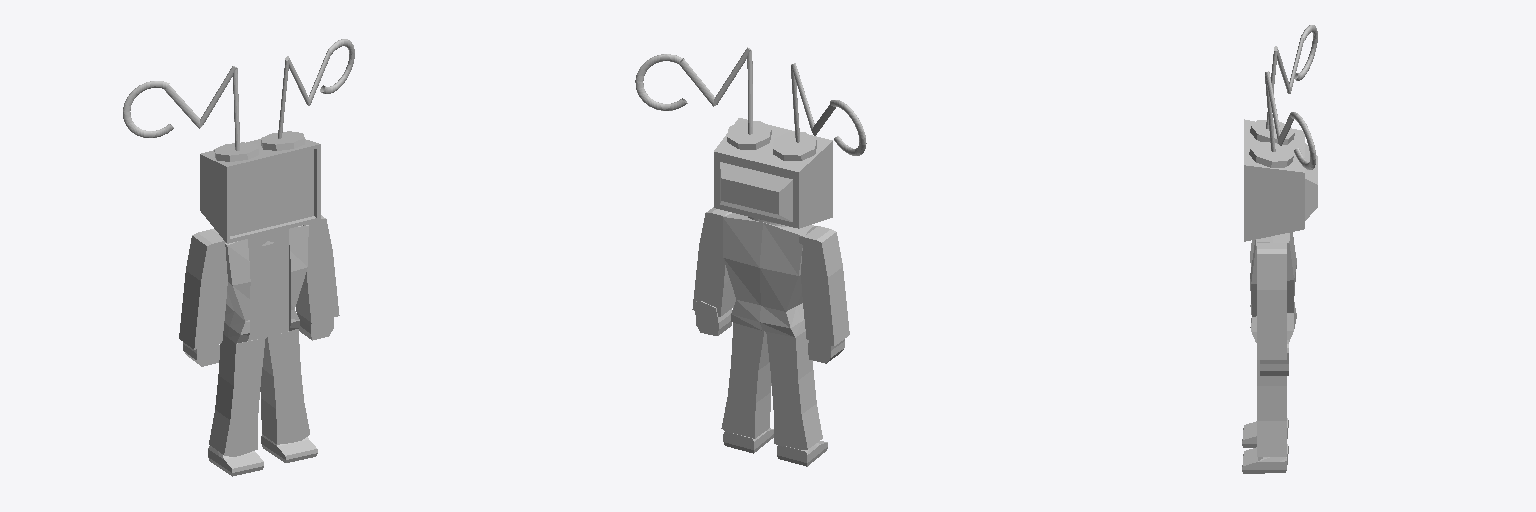
Rendered from seeze uncentered.obj.
3 views of the same model, side by side, from view 1: azimuth 30°, elevation 25°; view 2: azimuth 150°, elevation 25°; view 3: azimuth 270°, elevation 25° (orthographic).
Visible parts, largest first — view 1: sdfg; view 2: sdfg; view 3: sdfg.
Part boxes in pixels (bbox=[...]): sdfg: bbox=[123, 39, 354, 476]; sdfg: bbox=[635, 47, 866, 466]; sdfg: bbox=[1242, 25, 1317, 473].
Bounding box in the file's own units: 19.61 × 32.08 × 5.6.